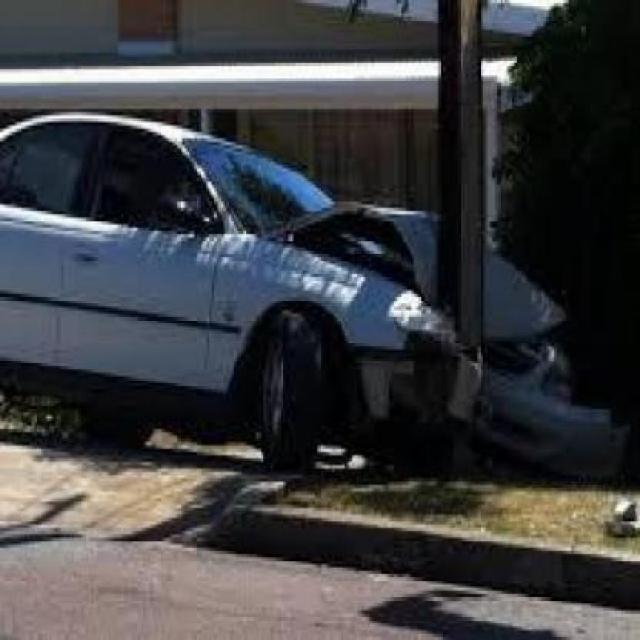Car Accident Detector - v4 Generation1 Exported: (0, 101, 569, 473)
